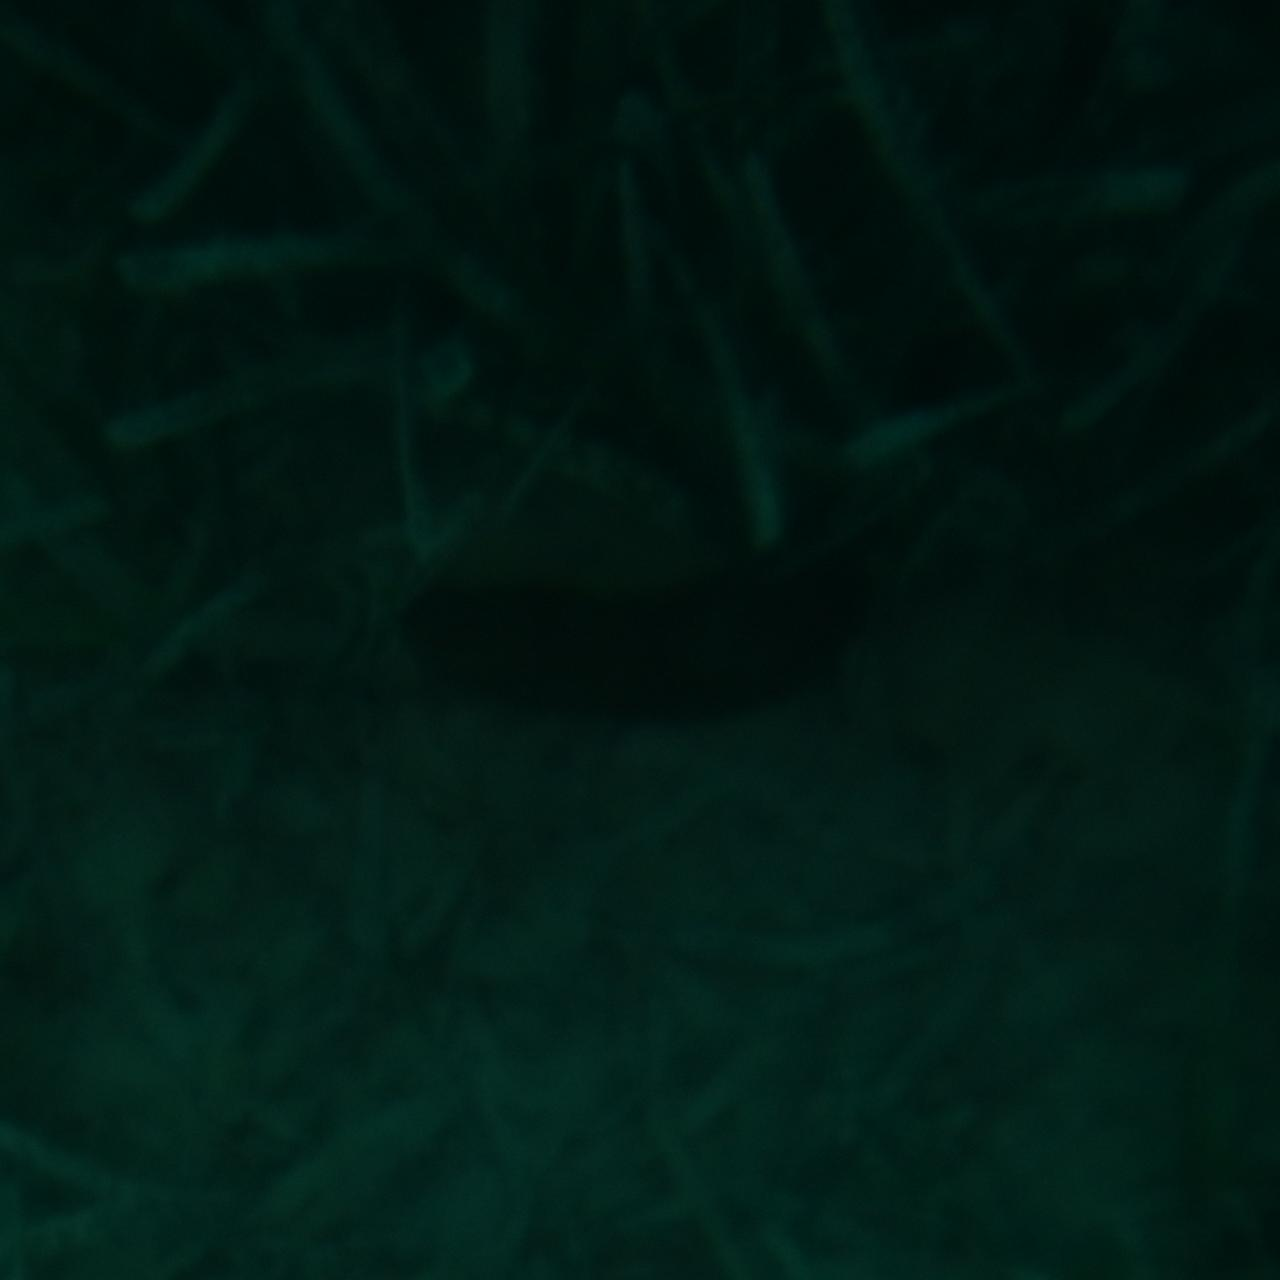Holothuria tubulosa: (382, 558, 898, 722)
